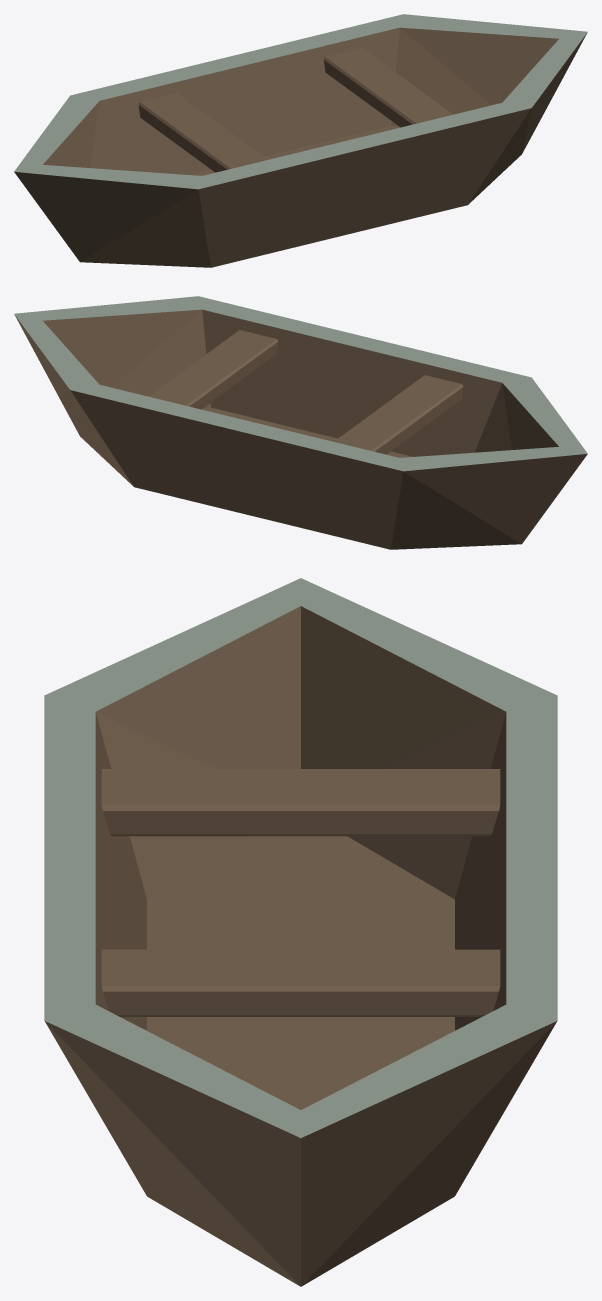
File: boat-hull.glb
3 renders of one model, top to bottom at view 1: azimuth 30°, elevation 25°; view 2: azimuth 150°, elevation 25°; view 3: azimuth 270°, elevation 25°, orthographic. The views are drawn at different scales.
Parts seen in each view (by area): view 1: boat-hull__body; view 2: boat-hull__body; view 3: boat-hull__body.
Boxes of the visible parts, x1=… form: boat-hull__body: x1=14, y1=14, x2=587, y2=267; boat-hull__body: x1=14, y1=296, x2=587, y2=549; boat-hull__body: x1=44, y1=578, x2=557, y2=1286.
Bounding box in the file's own units: 3.1 × 0.55 × 1.2.
